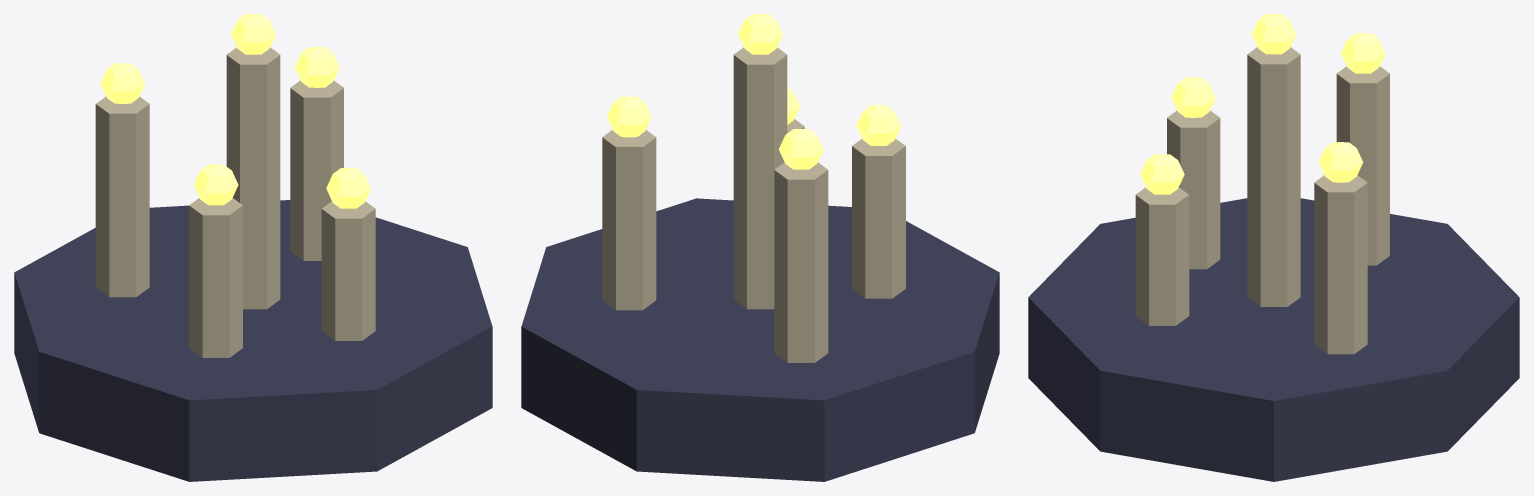
File: candle-cluster.glb
The picture shows the model from 3 angles, left to right: view 1: azimuth 30°, elevation 25°; view 2: azimuth 150°, elevation 25°; view 3: azimuth 270°, elevation 25°; orthographic projection.
Parts seen in each view (by area): view 1: cw_paint, cw_glow; view 2: cw_paint, cw_glow; view 3: cw_paint, cw_glow.
Boxes of the visible parts, x1=… form: cw_paint: x1=14, y1=47, x2=492, y2=481; cw_glow: x1=100, y1=14, x2=370, y2=208; cw_paint: x1=521, y1=47, x2=999, y2=481; cw_glow: x1=607, y1=14, x2=901, y2=169; cw_paint: x1=1028, y1=47, x2=1519, y2=481; cw_glow: x1=1140, y1=14, x2=1385, y2=194.
Bounding box in the file's own units: 1.1 × 0.9 × 1.1.
